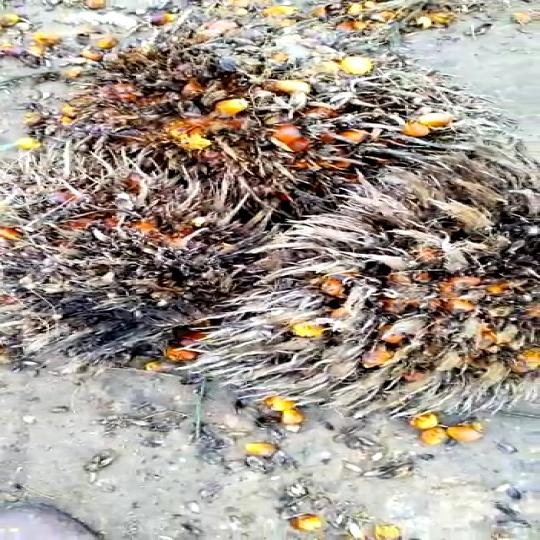terlalu masak: (28, 56, 417, 214), (0, 201, 280, 364)
